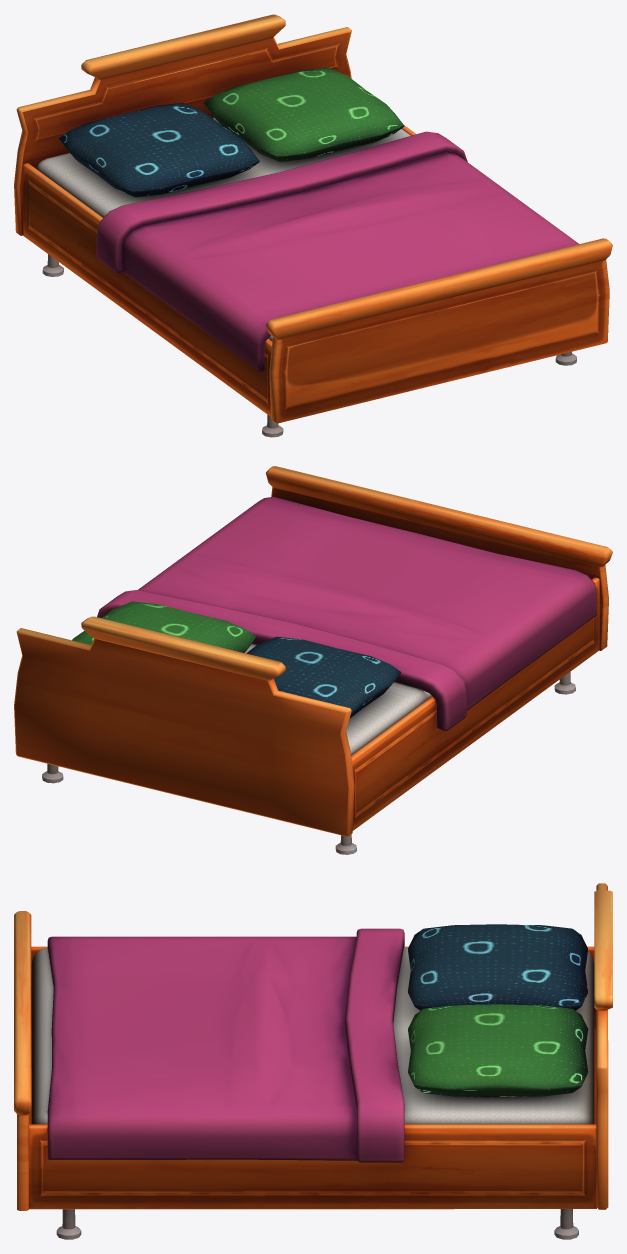
File: Bed01.FBX
3 views of the same model, one above another, from view 1: azimuth 30°, elevation 25°; view 2: azimuth 150°, elevation 25°; view 3: azimuth 270°, elevation 25° (orthographic). The views are drawn at different scales.
Parts seen in each view (by area): view 1: Bed01; view 2: Bed01; view 3: Bed01.
Boxes of the visible parts, x1,y1,x2,y2 form: Bed01: (14, 14, 612, 437); Bed01: (14, 466, 612, 854); Bed01: (14, 883, 612, 1239).
Size of what is drawn, in the model's own units: 1.75 by 0.8742 by 2.27.
